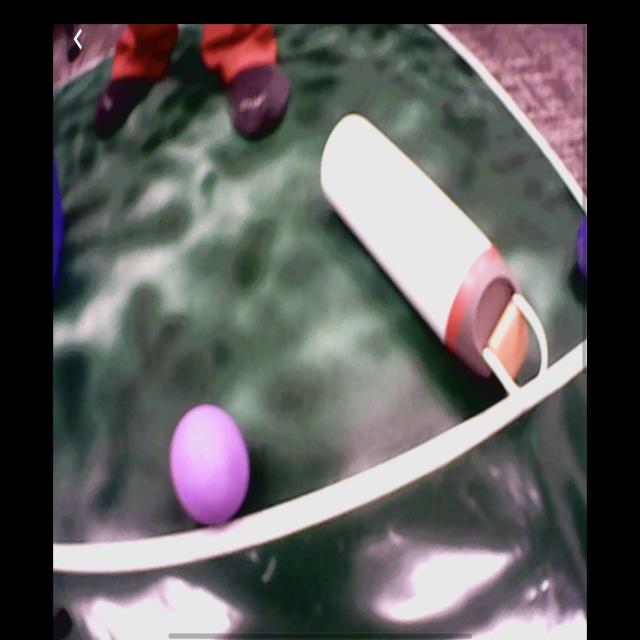ball: (171, 406, 252, 528), (575, 214, 589, 291)
